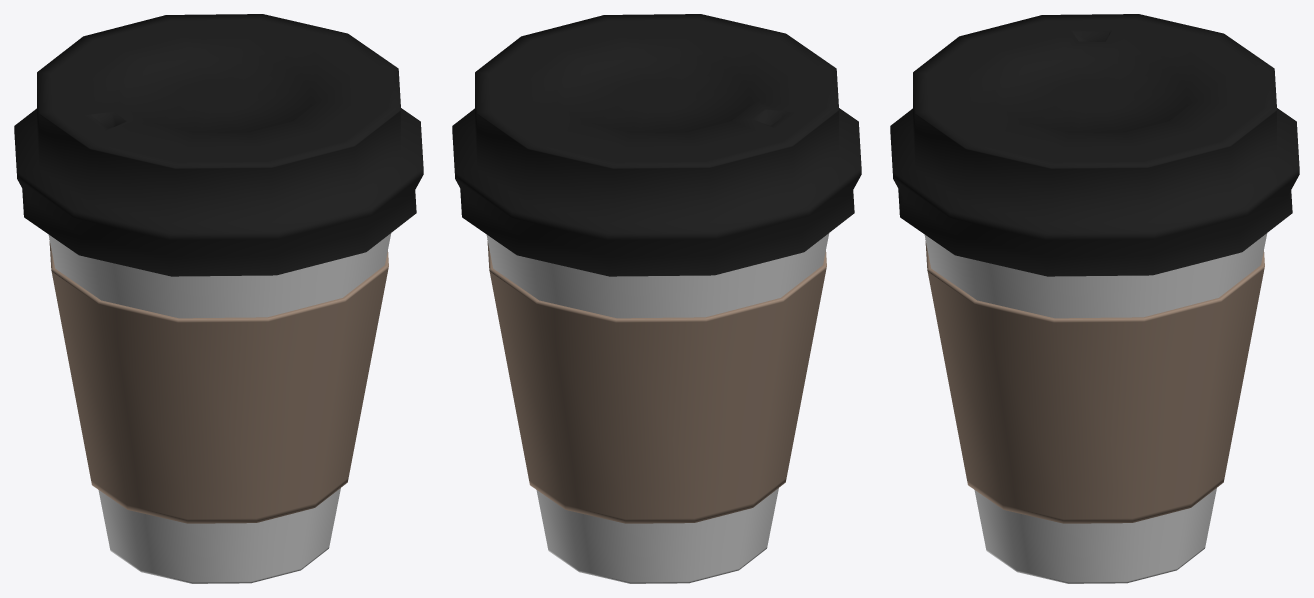
The model's file is uploads_files_4231898_Cup.glb.
3 views of the same model, side by side, from view 1: azimuth 30°, elevation 25°; view 2: azimuth 150°, elevation 25°; view 3: azimuth 270°, elevation 25° (orthographic).
Parts seen in each view (by area): view 1: Lid, Cup; view 2: Lid, Cup; view 3: Lid, Cup.
Boxes of the visible parts, box(x1,y1,x2,y2) form: Lid: box(14, 14, 423, 276); Cup: box(48, 233, 391, 583); Lid: box(452, 14, 861, 276); Cup: box(486, 233, 829, 583); Lid: box(890, 14, 1299, 276); Cup: box(924, 233, 1267, 583).
Size of the model in its own units: 0.0609 by 0.0733 by 0.0609.
